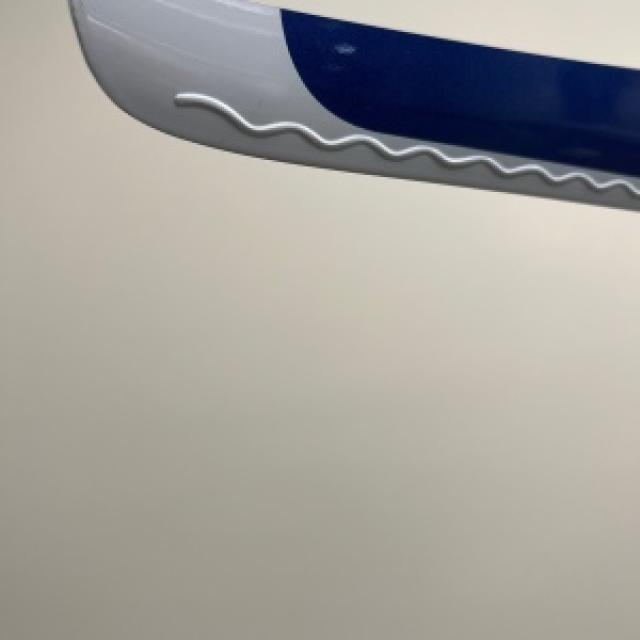healthy: (68, 0, 638, 209)
